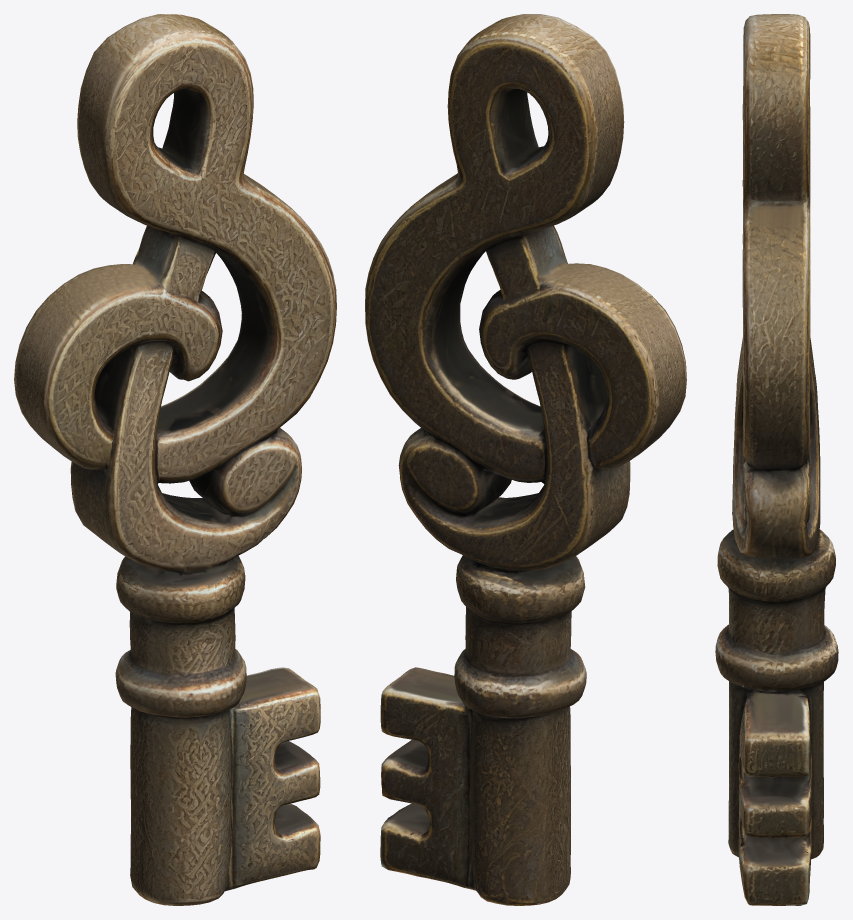
Rendered from Prop_Key_Treble.fbx.
3 views of the same model, side by side, from view 1: azimuth 30°, elevation 25°; view 2: azimuth 150°, elevation 25°; view 3: azimuth 270°, elevation 25° (orthographic). The views are drawn at different scales.
Parts seen in each view (by area): view 1: texture_mapping; view 2: texture_mapping; view 3: texture_mapping.
Boxes of the visible parts, bbox=[...] form: texture_mapping: bbox=[14, 14, 336, 905]; texture_mapping: bbox=[365, 14, 686, 905]; texture_mapping: bbox=[715, 14, 838, 905].
Bounding box in the file's own units: 0.3569 × 0.1358 × 0.9995.
Materials: 1 (1 with a texture image).
